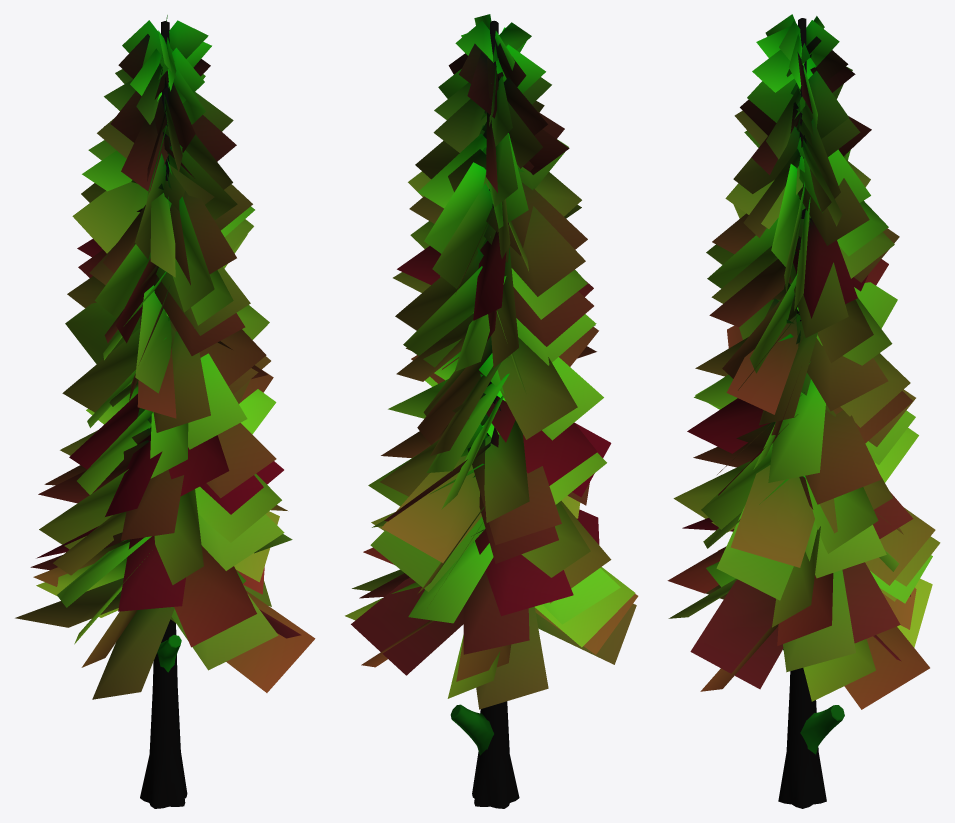
The model's file is M_Pine_2_2.fbx.
The picture shows the model from 3 angles, left to right: view 1: azimuth 30°, elevation 25°; view 2: azimuth 150°, elevation 25°; view 3: azimuth 270°, elevation 25°; orthographic projection.
Parts seen in each view (by area): view 1: Tree_2; view 2: Tree_2; view 3: Tree_2.
Part boxes in pixels (x1,y1,x2,y2): Tree_2: (15, 15, 315, 808); Tree_2: (345, 14, 638, 808); Tree_2: (667, 14, 940, 808).
Size of the model in its own units: 848 by 2700 by 855.
